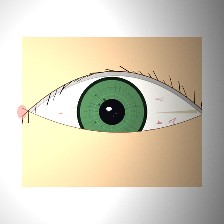pterygium_lesion: (143, 88, 203, 136)
